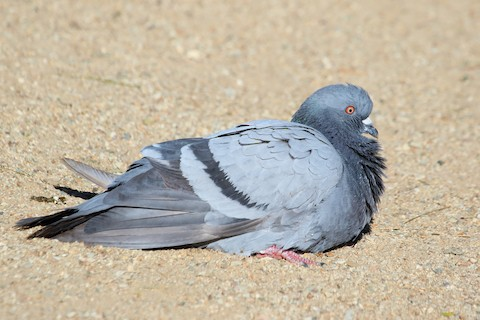pigeon: (13, 80, 390, 266)
